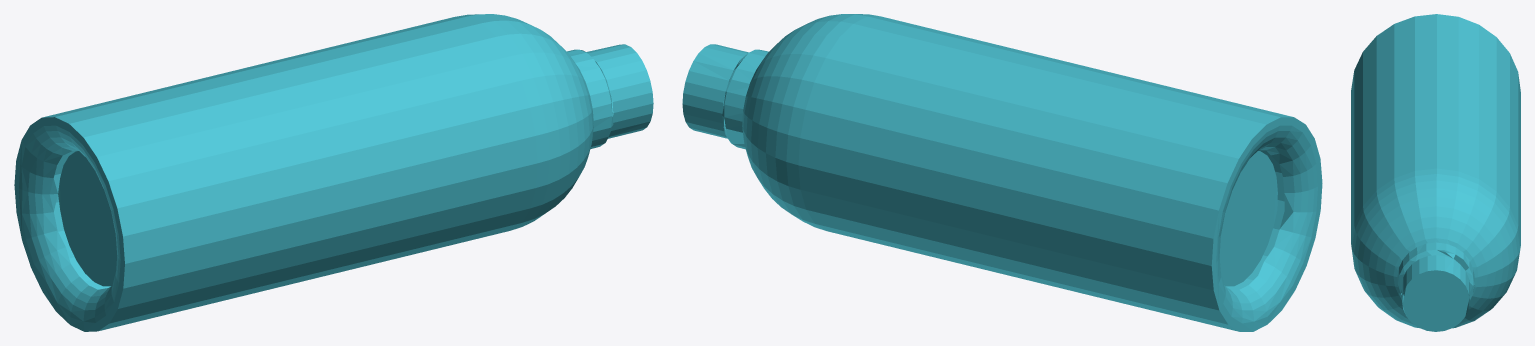
3 renders of one model, left to right at view 1: azimuth 30°, elevation 25°; view 2: azimuth 150°, elevation 25°; view 3: azimuth 270°, elevation 25°, orthographic. The views are drawn at different scales.
Visible parts, largest first — view 1: Renderer Node; view 2: Renderer Node; view 3: Renderer Node.
Boxes of the visible parts, <box> form: Renderer Node: <box>14,14,653,331</box>; Renderer Node: <box>682,14,1322,331</box>; Renderer Node: <box>1351,14,1520,331</box>.
Bounding box in the file's own units: 0.9007 × 0.3073 × 0.3073.
1 material, 1 textured.
